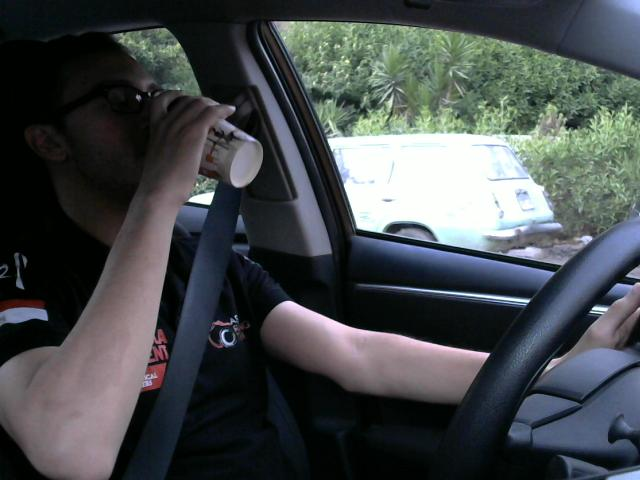Drinking: (147, 92, 275, 191)
